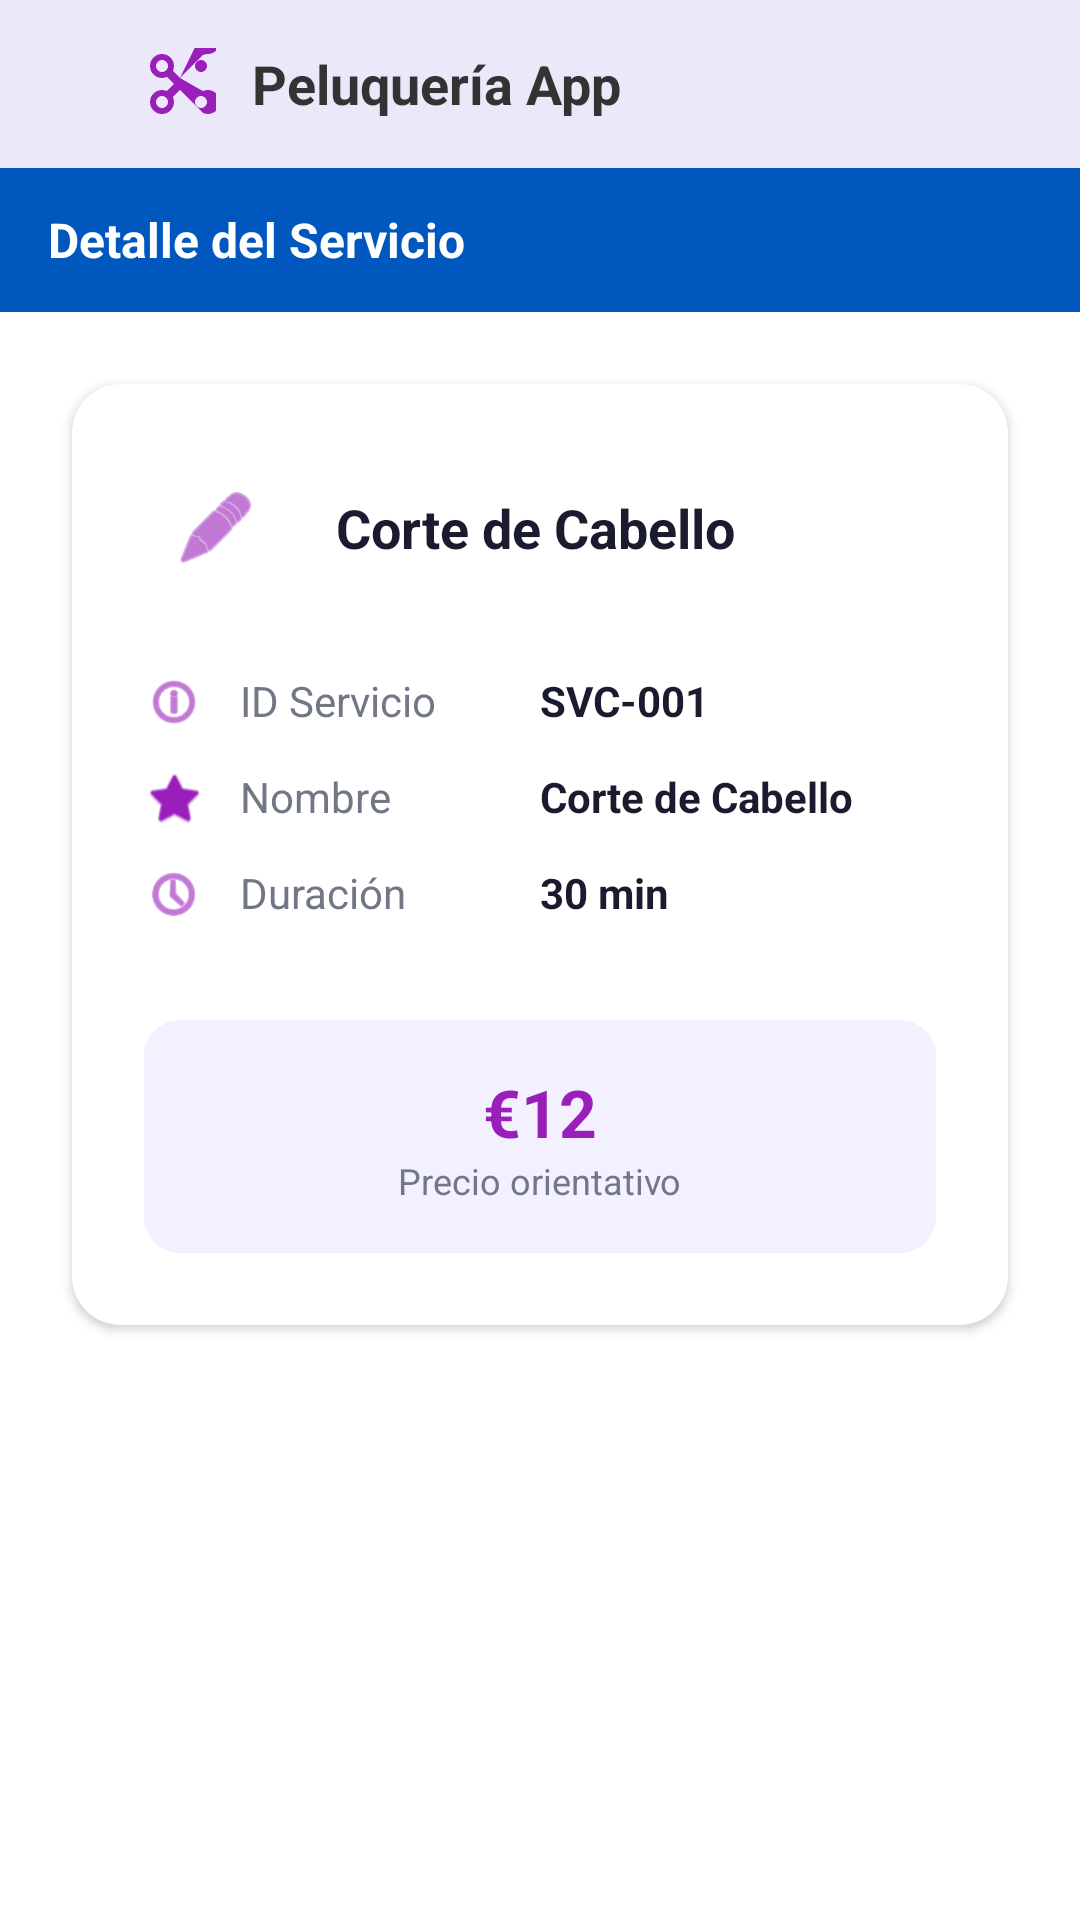

Icon click points for this 1080px x 1920px phone screenshot, format (x=x, y=y):
content cut: (x=183, y=81)
edit: (x=215, y=527)
info details: (x=174, y=702)
recent history: (x=173, y=894)
